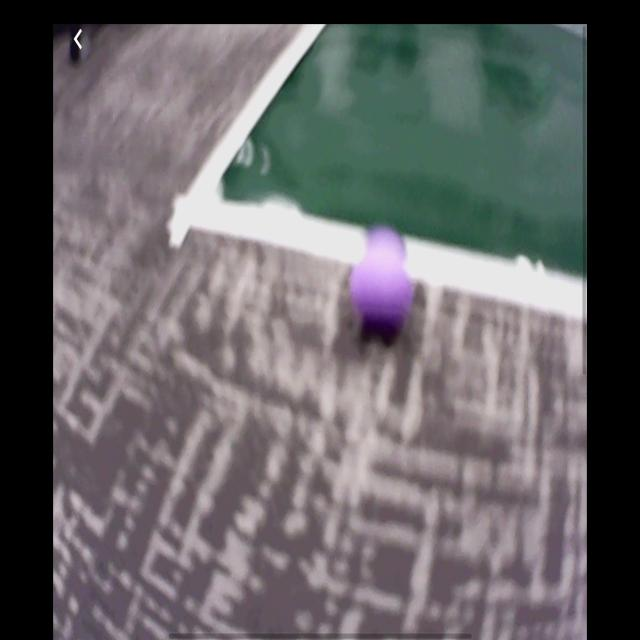ball: (349, 225, 416, 348)
